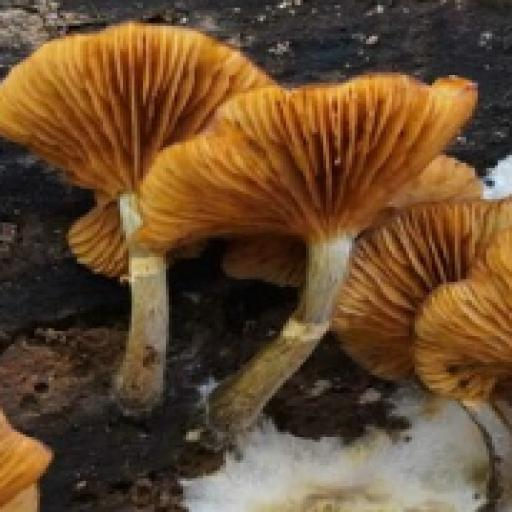mushroom: (3, 19, 512, 418)
